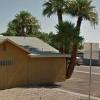Palm tree: (40, 1, 94, 52)
